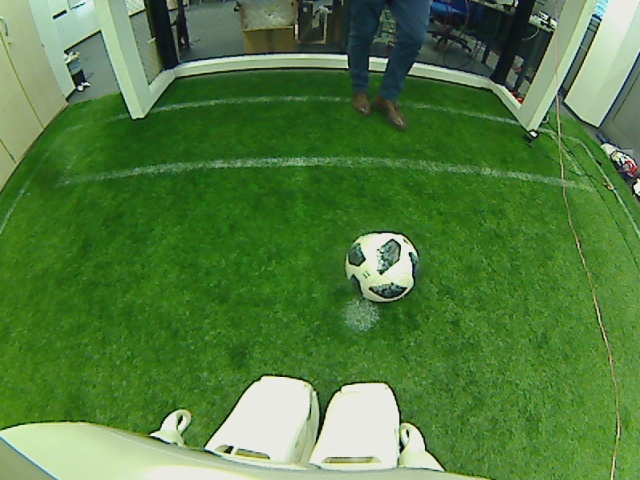ball: (344, 229, 420, 302)
